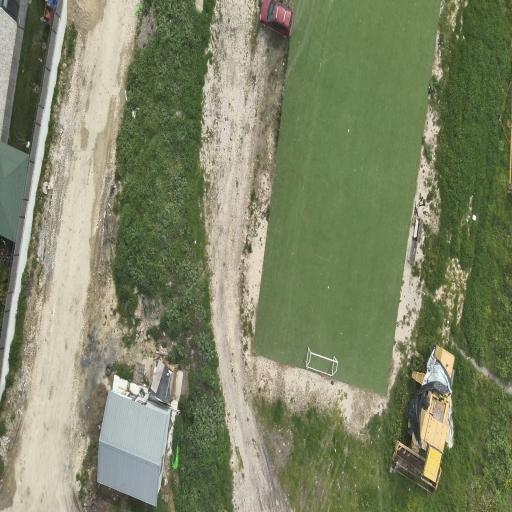car: (260, 0, 293, 37)
harvester: (392, 347, 454, 492)
